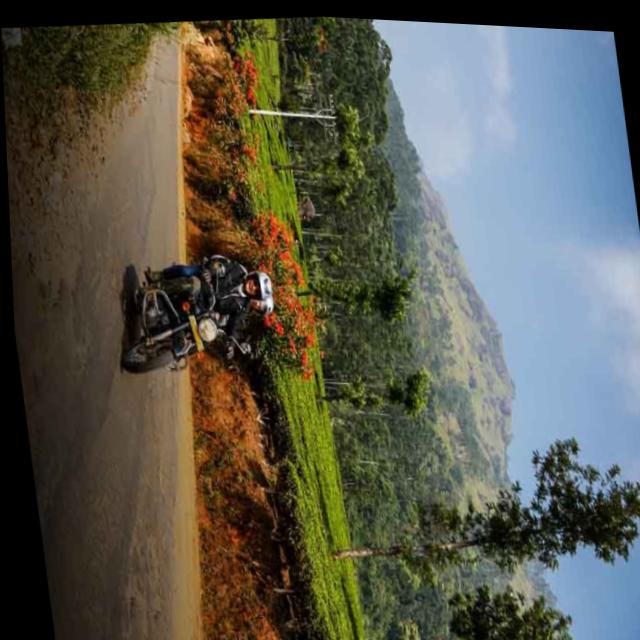normal: (111, 229, 286, 375)
